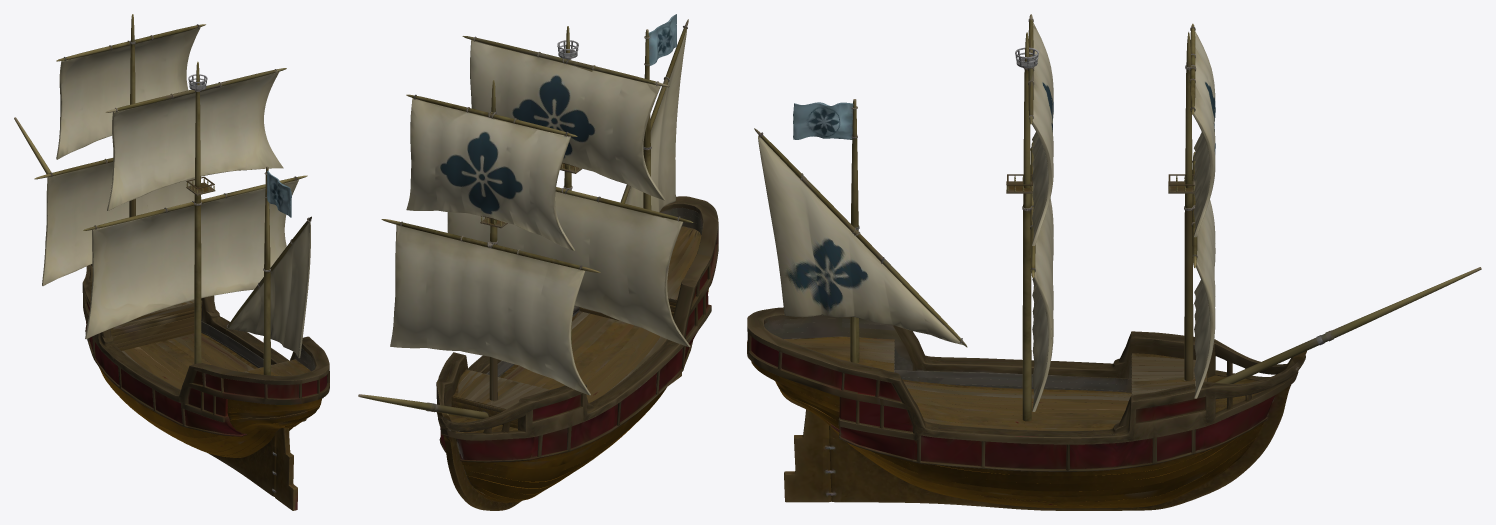
Rendered from MZ4250 - Galleon_Royal.glb.
The picture shows the model from 3 angles, left to right: view 1: azimuth 30°, elevation 25°; view 2: azimuth 150°, elevation 25°; view 3: azimuth 270°, elevation 25°; orthographic projection. The views are drawn at different scales.
Parts seen in each view (by area): view 1: Galleon_light.001; view 2: Galleon_light.001; view 3: Galleon_light.001.
Boxes of the visible parts, <box> form: Galleon_light.001: <box>14,14,329,510</box>; Galleon_light.001: <box>358,14,718,510</box>; Galleon_light.001: <box>747,14,1481,510</box>.
Bounding box in the file's own units: 80.79 × 132 × 184.
Materials: 1 (1 with a texture image).
